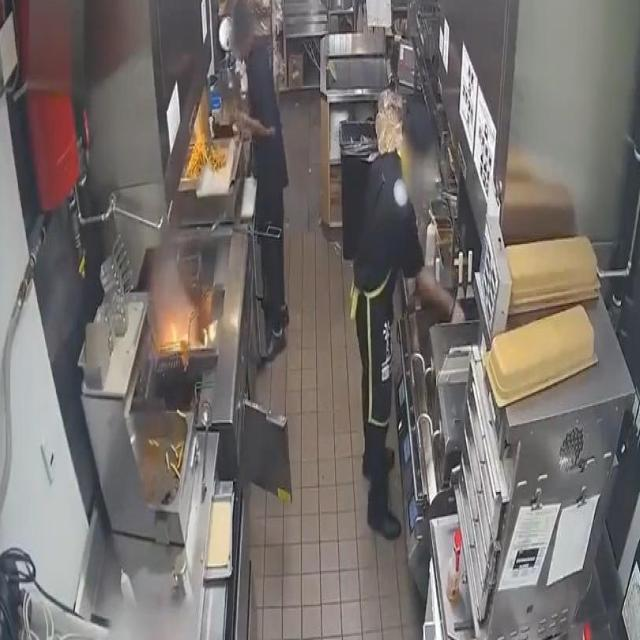smoke: (162, 318, 192, 344)
